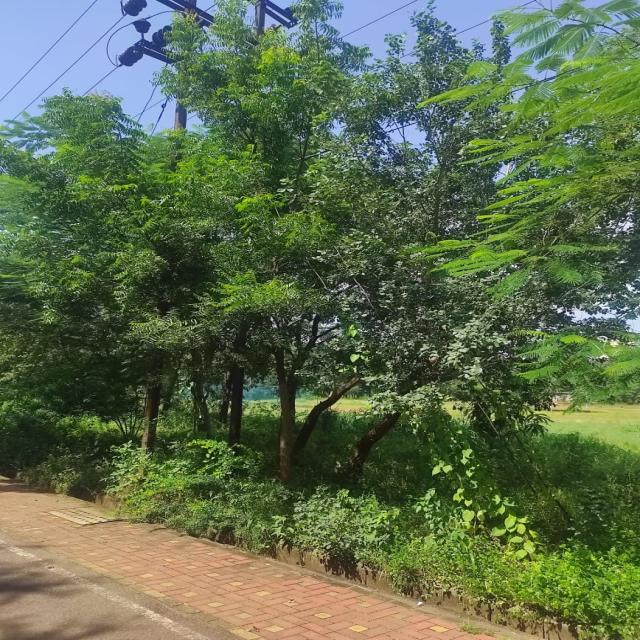Devakanchan tree: (353, 108, 550, 403)
Neem Tree: (72, 73, 291, 409)
